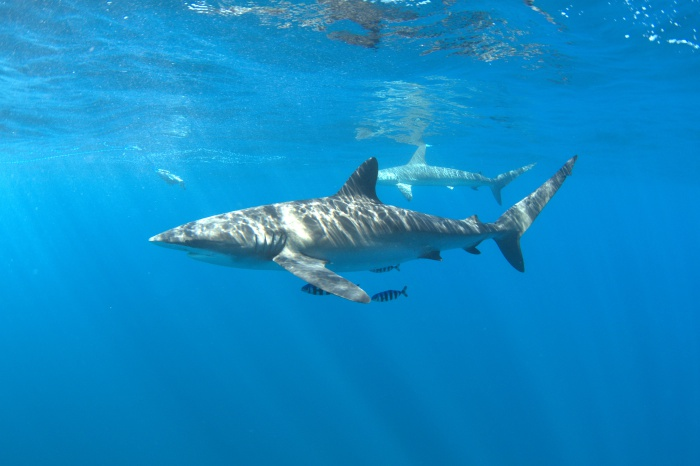Sedoso: (123, 142, 588, 311)
